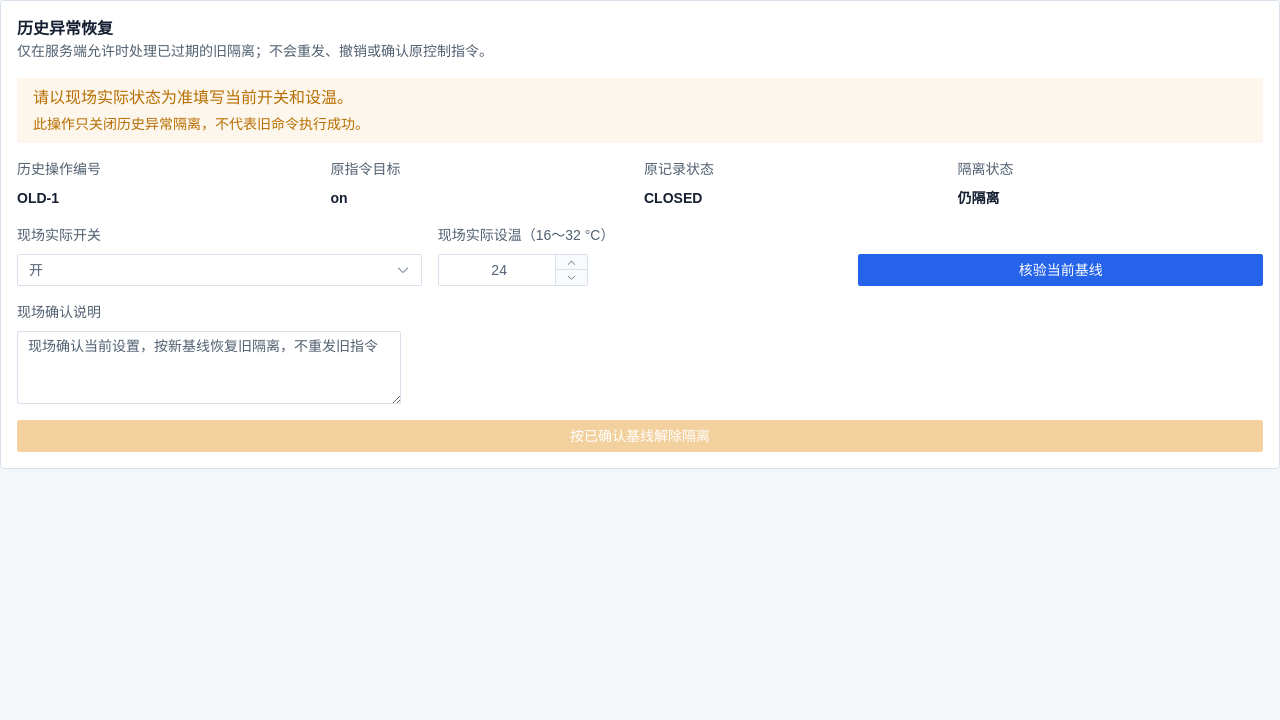
Test: 历史异常恢复面板 › 按服务端新鲜证明完成恢复并发出刷新事件
The image size is (1280, 720).
Click the button with test id "observe-recovery".
click(1061, 270)  # box left=858, top=254, right=1263, bottom=286
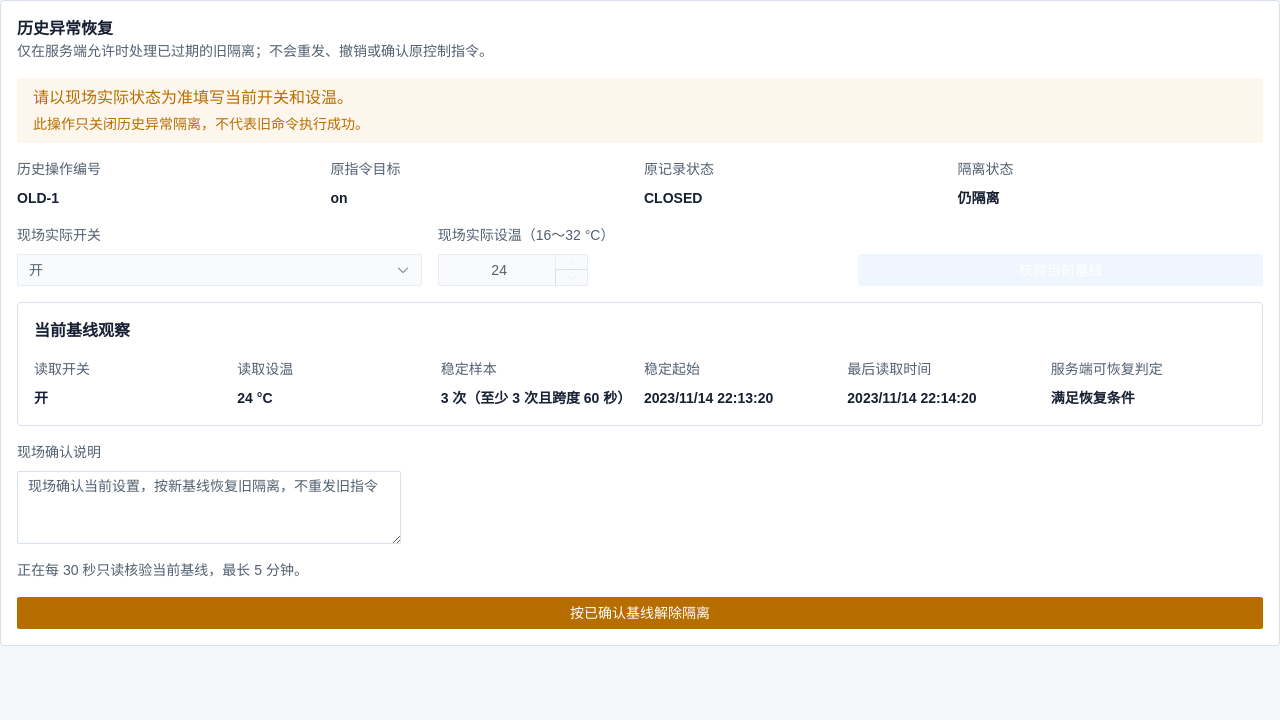
Click the button with test id "complete-recovery".
click(640, 613)  # box left=17, top=597, right=1263, bottom=629
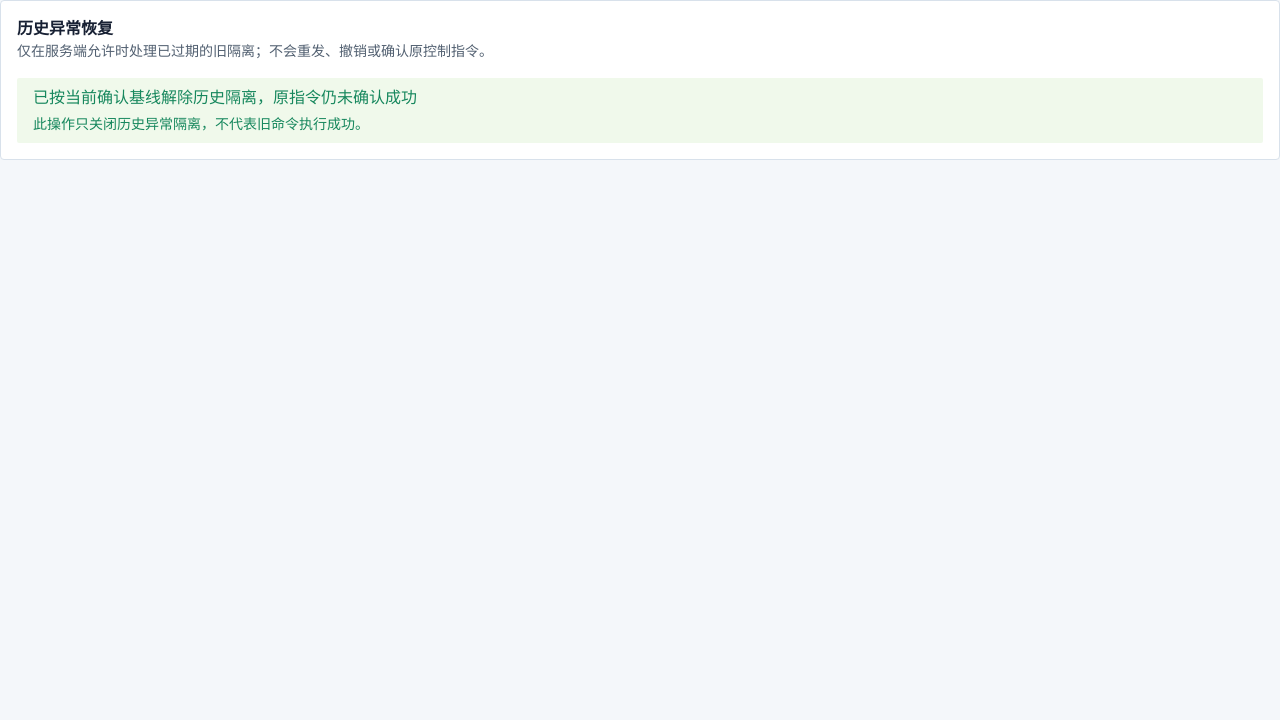
Check: the text "已按当前确认基线解除历史隔离，原指令仍未确认成功" is shown, box left=33, top=86, right=417, bottom=110
